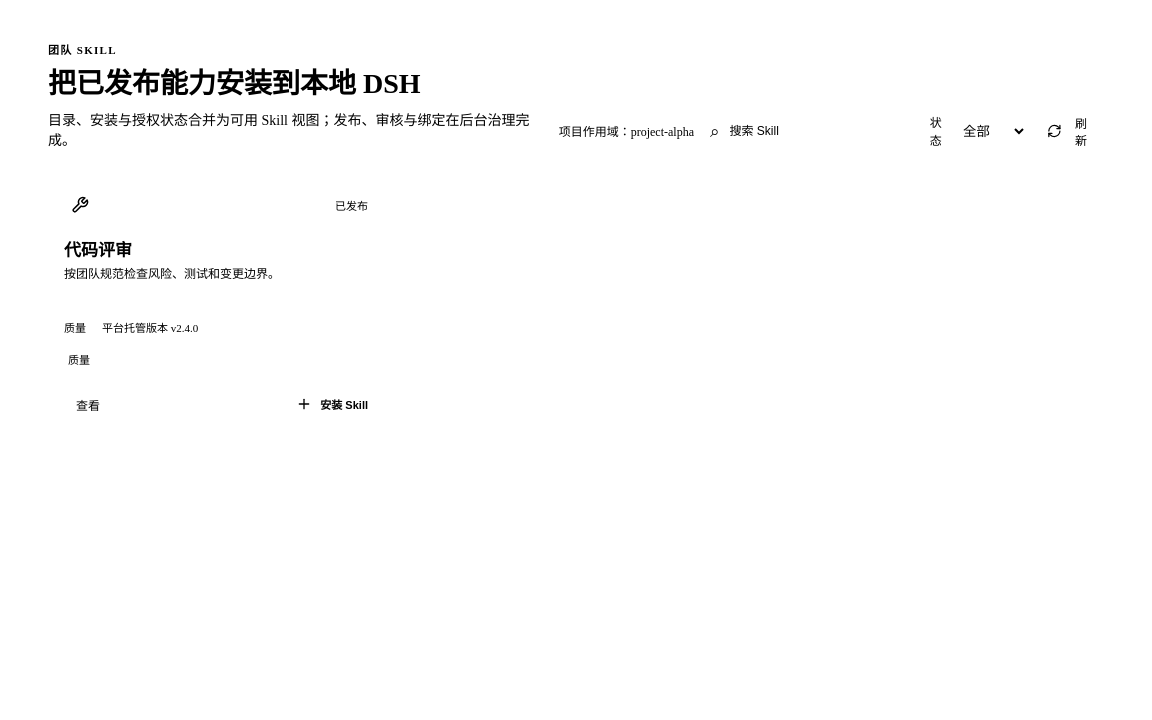
Scenario: §11.14 信任卡（视图） › 未签名版本报错，绝不渲染无签名的信任卡
Expected: the heading "代码评审" is shown, [64,241,132,260]
Click the button with aria-label "查看代码评审" at (88, 404), box [64,387,112,421]
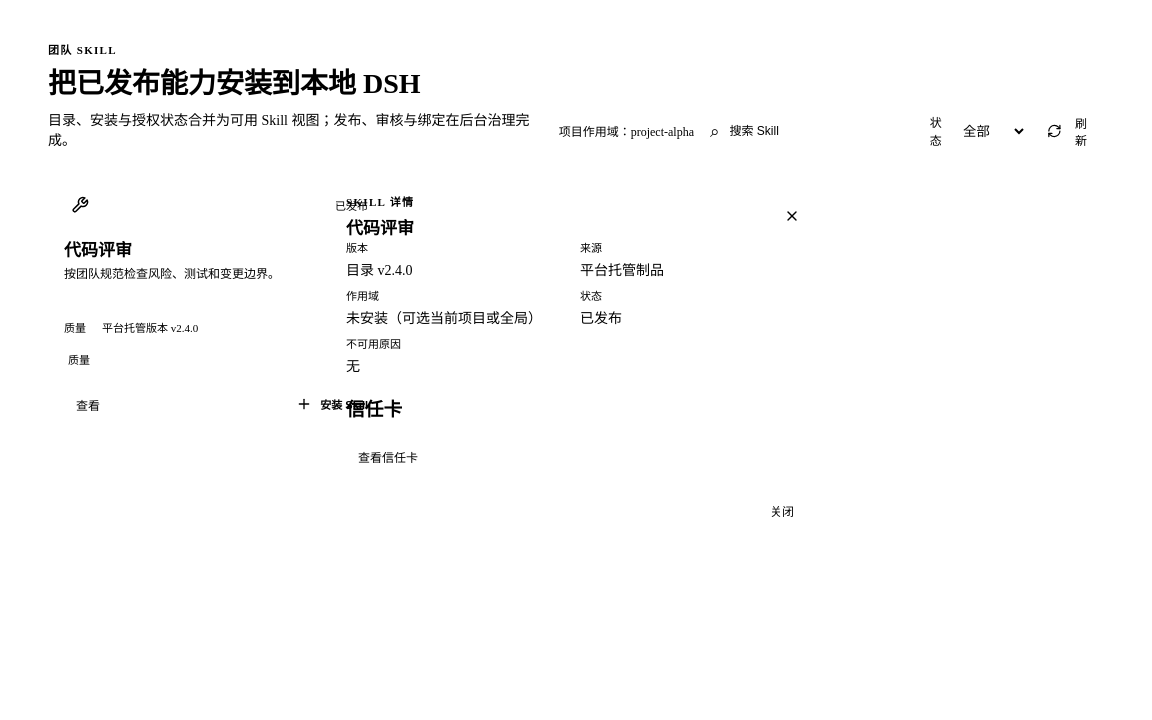
Click the button "查看信任卡" at (388, 457), box [346,440,430,474]
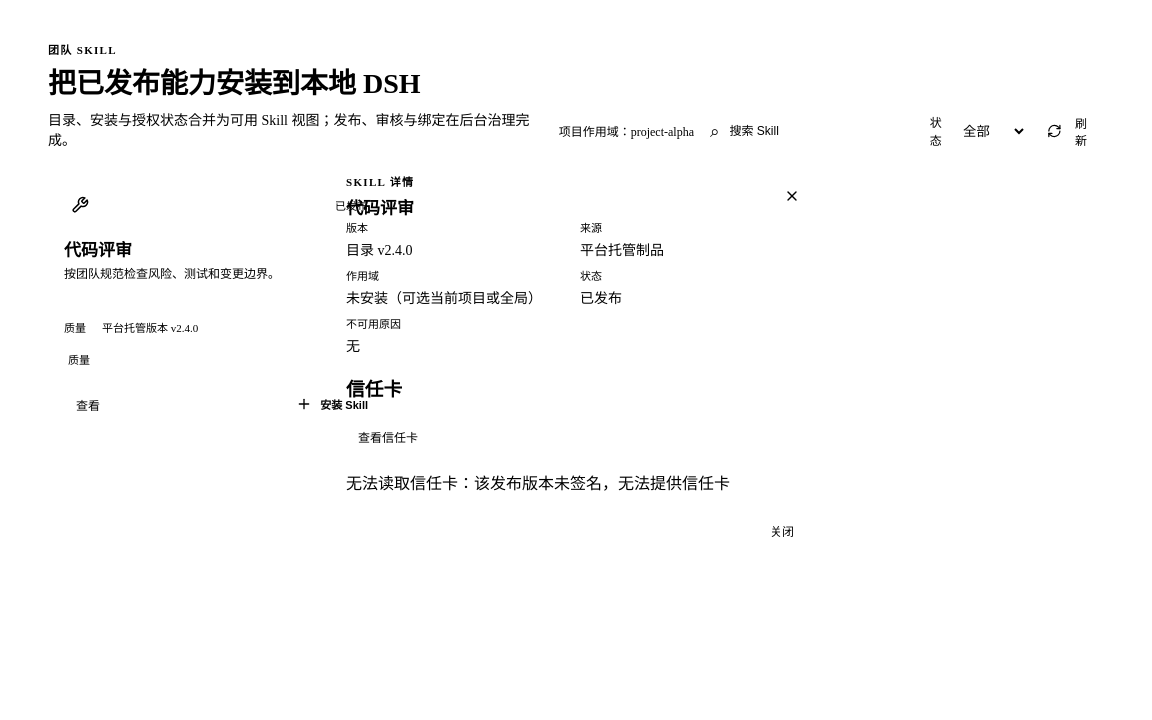
Expected: the message shows "未签名", [346,475,730,492]
